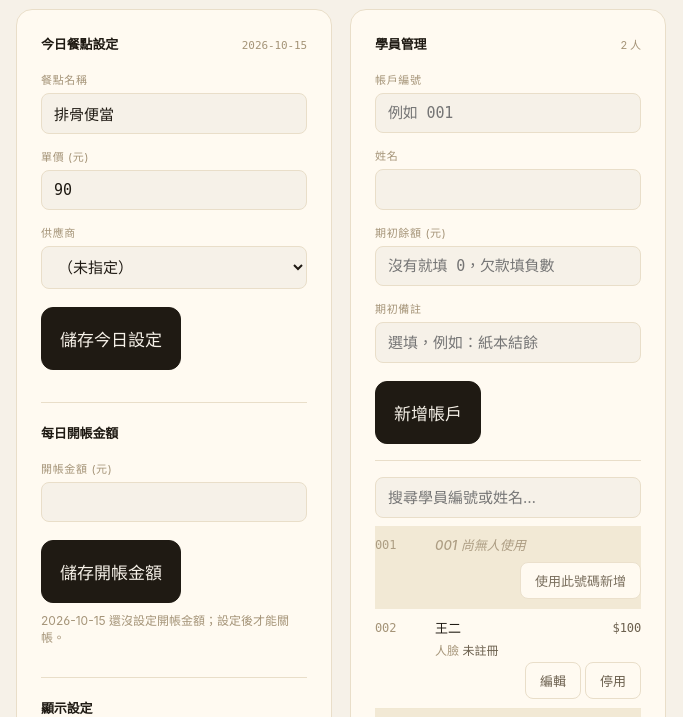
Test case: AdminScreen - 學員編號排序、缺號列與改編號 (U3 #7, #9) › 修改編號為已存在之編號時阻擋並提示已有人使用與互換提示
Step 1. Click the button with aria-label "編輯 002" → {"x": 553, "y": 680}, box [525,662,581,699]
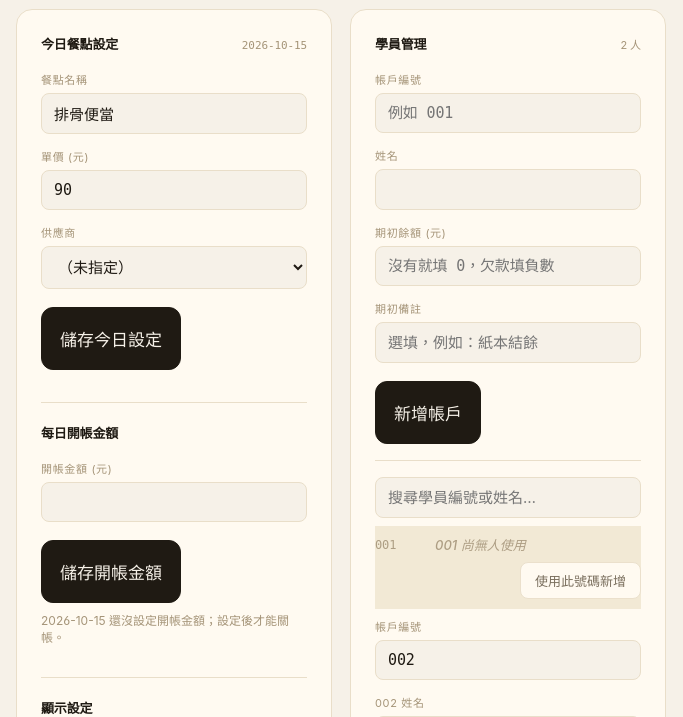
Step 2. Replace the text in the field labelled "帳戶編號" below "001 尚無人使用" with "005" → {"x": 508, "y": 660}, box [375,640,641,680]
(page scrolled)
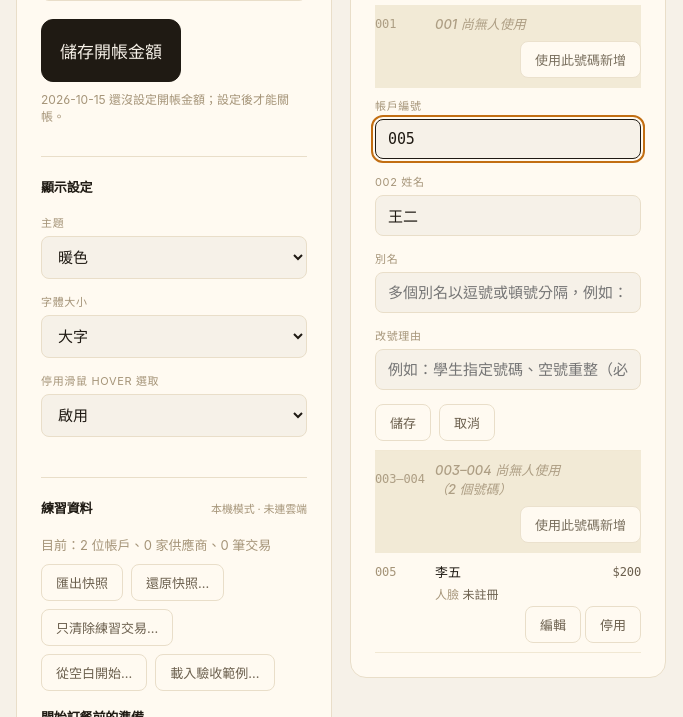
Step 3. Type "測試重複改號" into the field labelled "改號理由" → {"x": 508, "y": 370}, box [375,349,641,390]
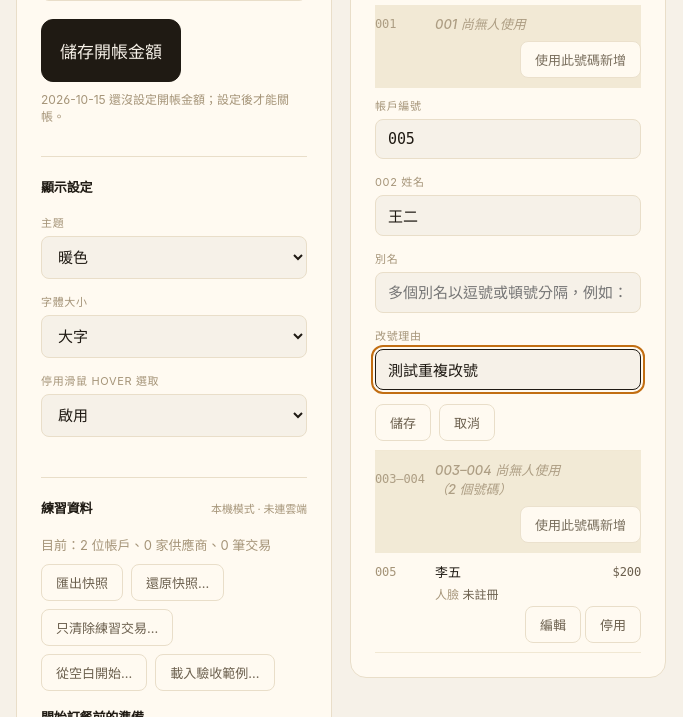
Step 4. Click the button "儲存" → {"x": 403, "y": 422}, box [375,404,431,441]
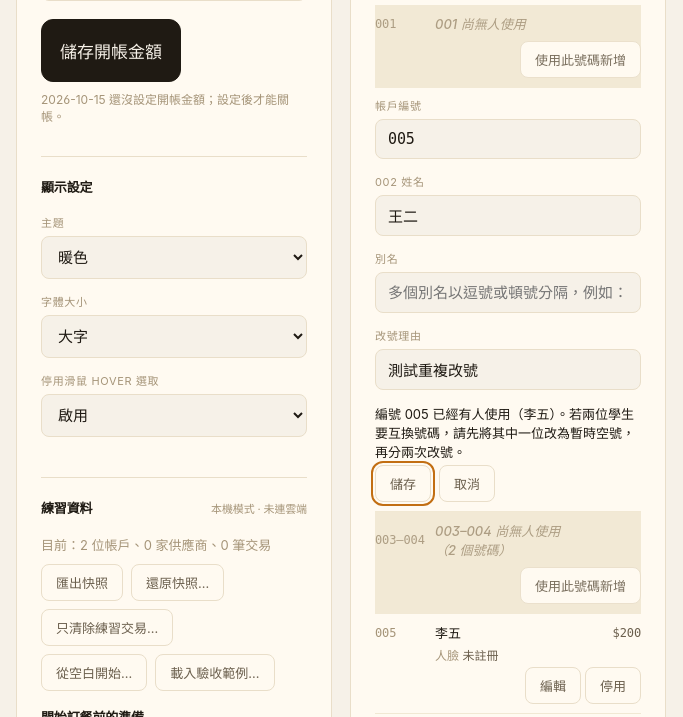
Check: the text "編號 005 已經有人使用（李五）。若兩位學生要互換號碼，請先將其中一位改為暫時空號，再分兩次改號。" is shown, box [375,404,641,461]
